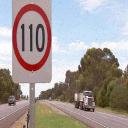speed_limit_110: (8, 0, 56, 86)
